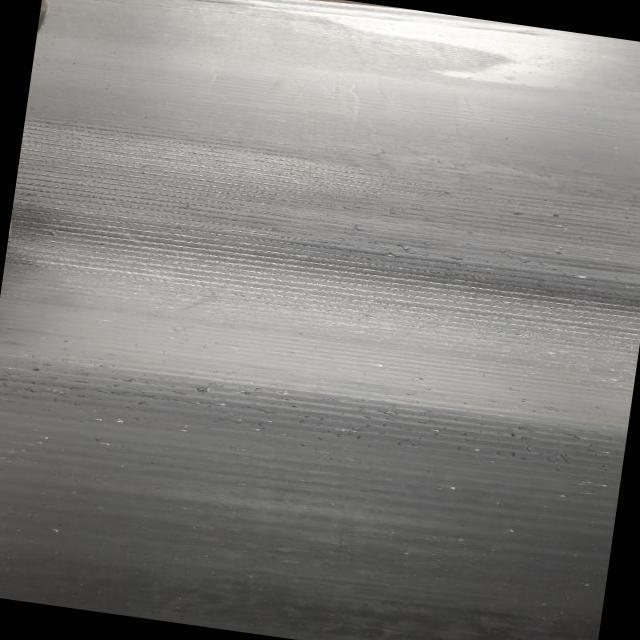Wear: (2, 104, 640, 369)
